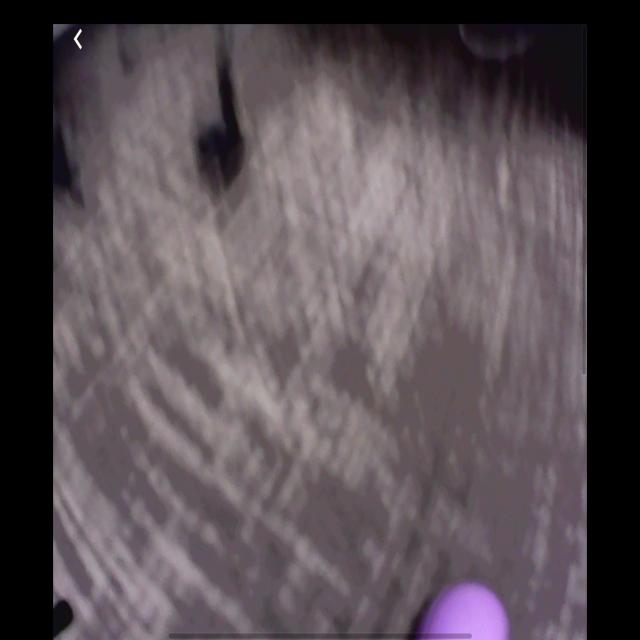ball: (420, 585, 512, 640)
